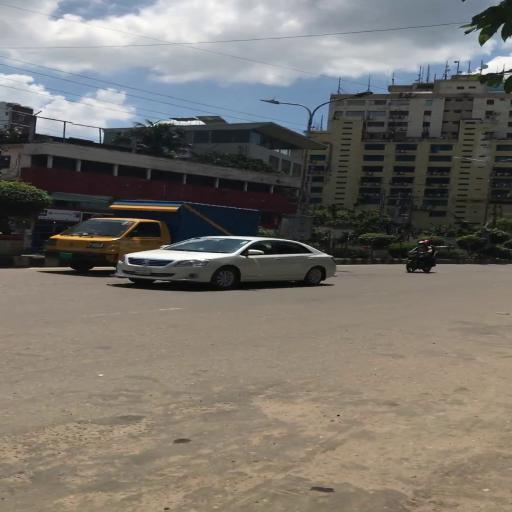car: (109, 236, 341, 289)
motorbike: (405, 239, 441, 275)
pickup: (40, 199, 260, 273)
